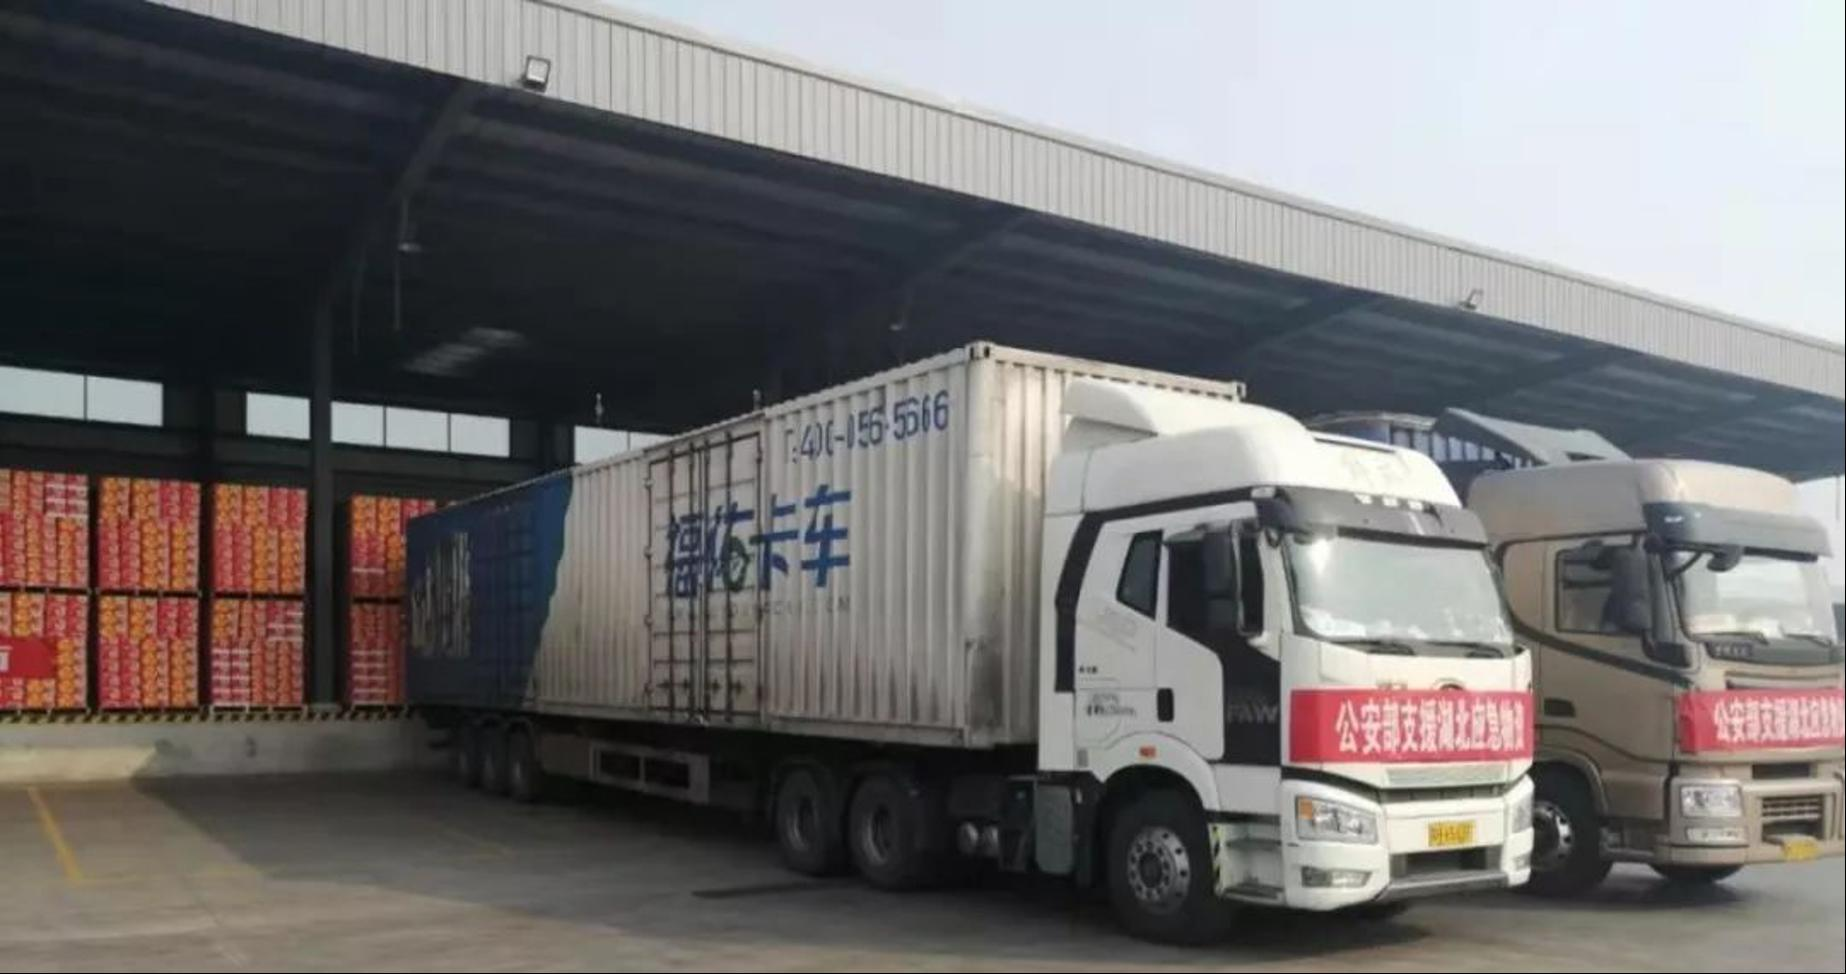truck: (378, 337, 1544, 953)
